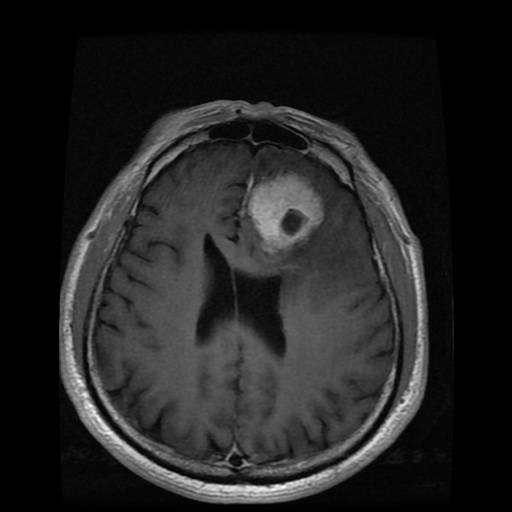meningioma: (249, 169, 324, 250)
